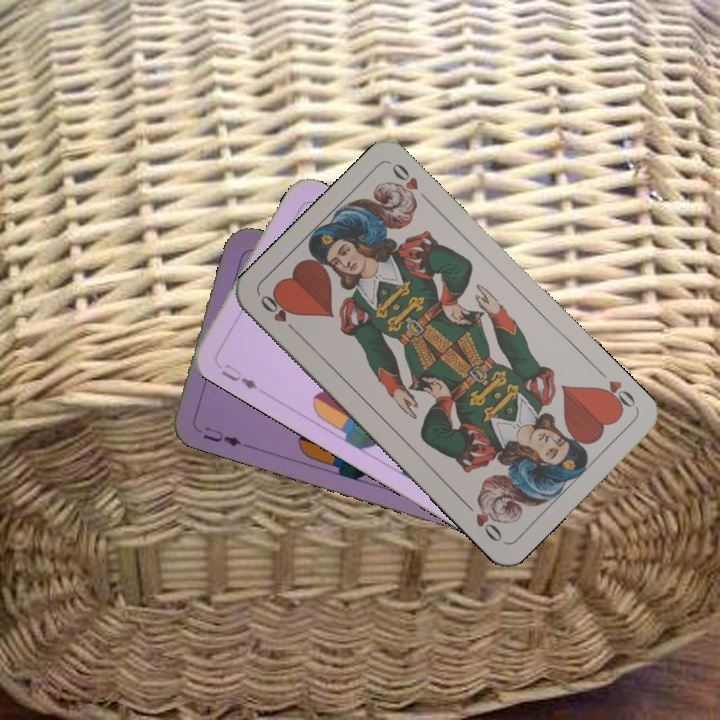EU: (217, 359, 260, 392), (199, 422, 244, 449)
HO: (256, 291, 302, 337), (593, 376, 640, 415)
